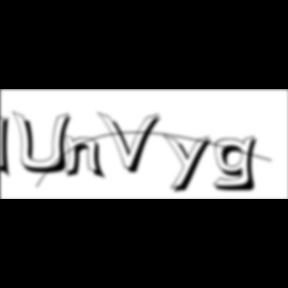I: (1, 110, 18, 182)
U: (12, 110, 78, 176)
V: (97, 110, 164, 176)
g: (213, 134, 265, 194)
n: (62, 132, 110, 181)
y: (164, 132, 218, 196)
